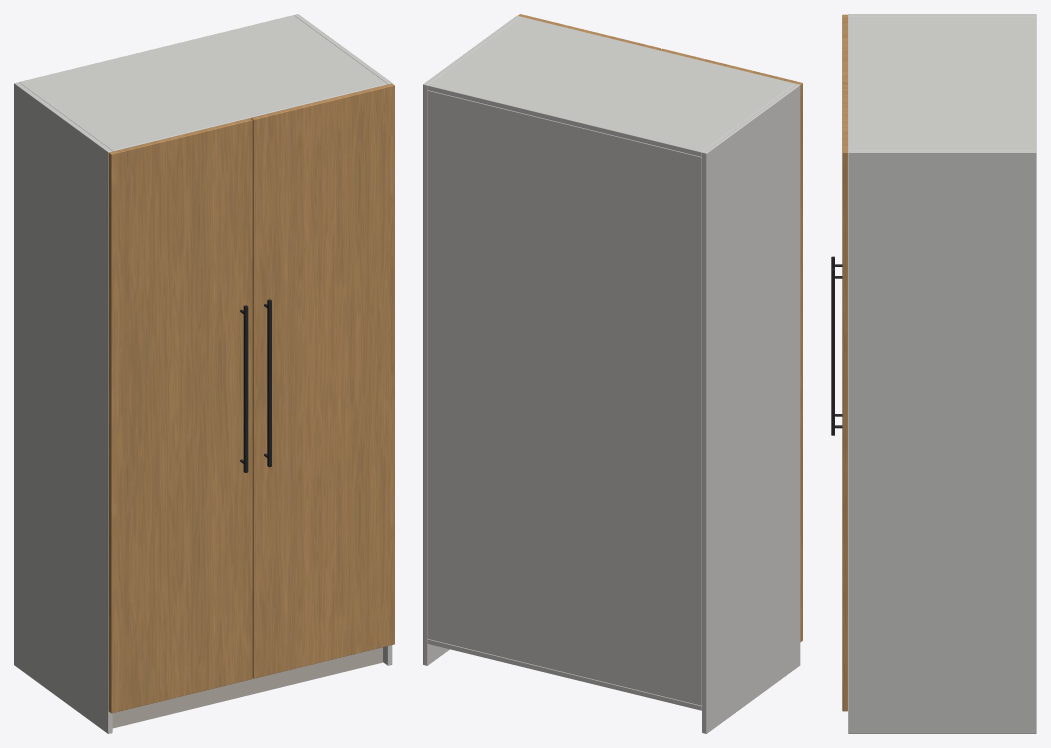
File: storage_cabinet_3.glb
The picture shows the model from 3 angles, left to right: view 1: azimuth 30°, elevation 25°; view 2: azimuth 150°, elevation 25°; view 3: azimuth 270°, elevation 25°; orthographic projection.
Visible parts, largest first — view 1: storage_cabinet_3_carcass, storage_cabinet_3_door_l, storage_cabinet_3_door_r, storage_cabinet_3_plinth, storage_cabinet_3_handle_l, storage_cabinet_3_handle_r; view 2: storage_cabinet_3_carcass, storage_cabinet_3_door_l; view 3: storage_cabinet_3_carcass, storage_cabinet_3_door_r, storage_cabinet_3_handle_r, storage_cabinet_3_door_l.
Part boxes in pixels (x1,y1,x2,y2): storage_cabinet_3_carcass: (14,14,392,733); storage_cabinet_3_door_l: (108,118,252,713); storage_cabinet_3_door_r: (251,83,394,678); storage_cabinet_3_plinth: (112,647,382,728); storage_cabinet_3_handle_l: (240,305,248,472); storage_cabinet_3_handle_r: (264,299,271,467); storage_cabinet_3_carcass: (423,15,800,733); storage_cabinet_3_door_l: (660,48,802,642); storage_cabinet_3_carcass: (848,14,1036,733); storage_cabinet_3_door_r: (842,84,847,711); storage_cabinet_3_handle_r: (831,268,842,435); storage_cabinet_3_door_l: (842,14,847,83).
Bounding box in the file's own units: 1.07 × 2.1 × 0.671.
Materials: 4 (1 with a texture image).
